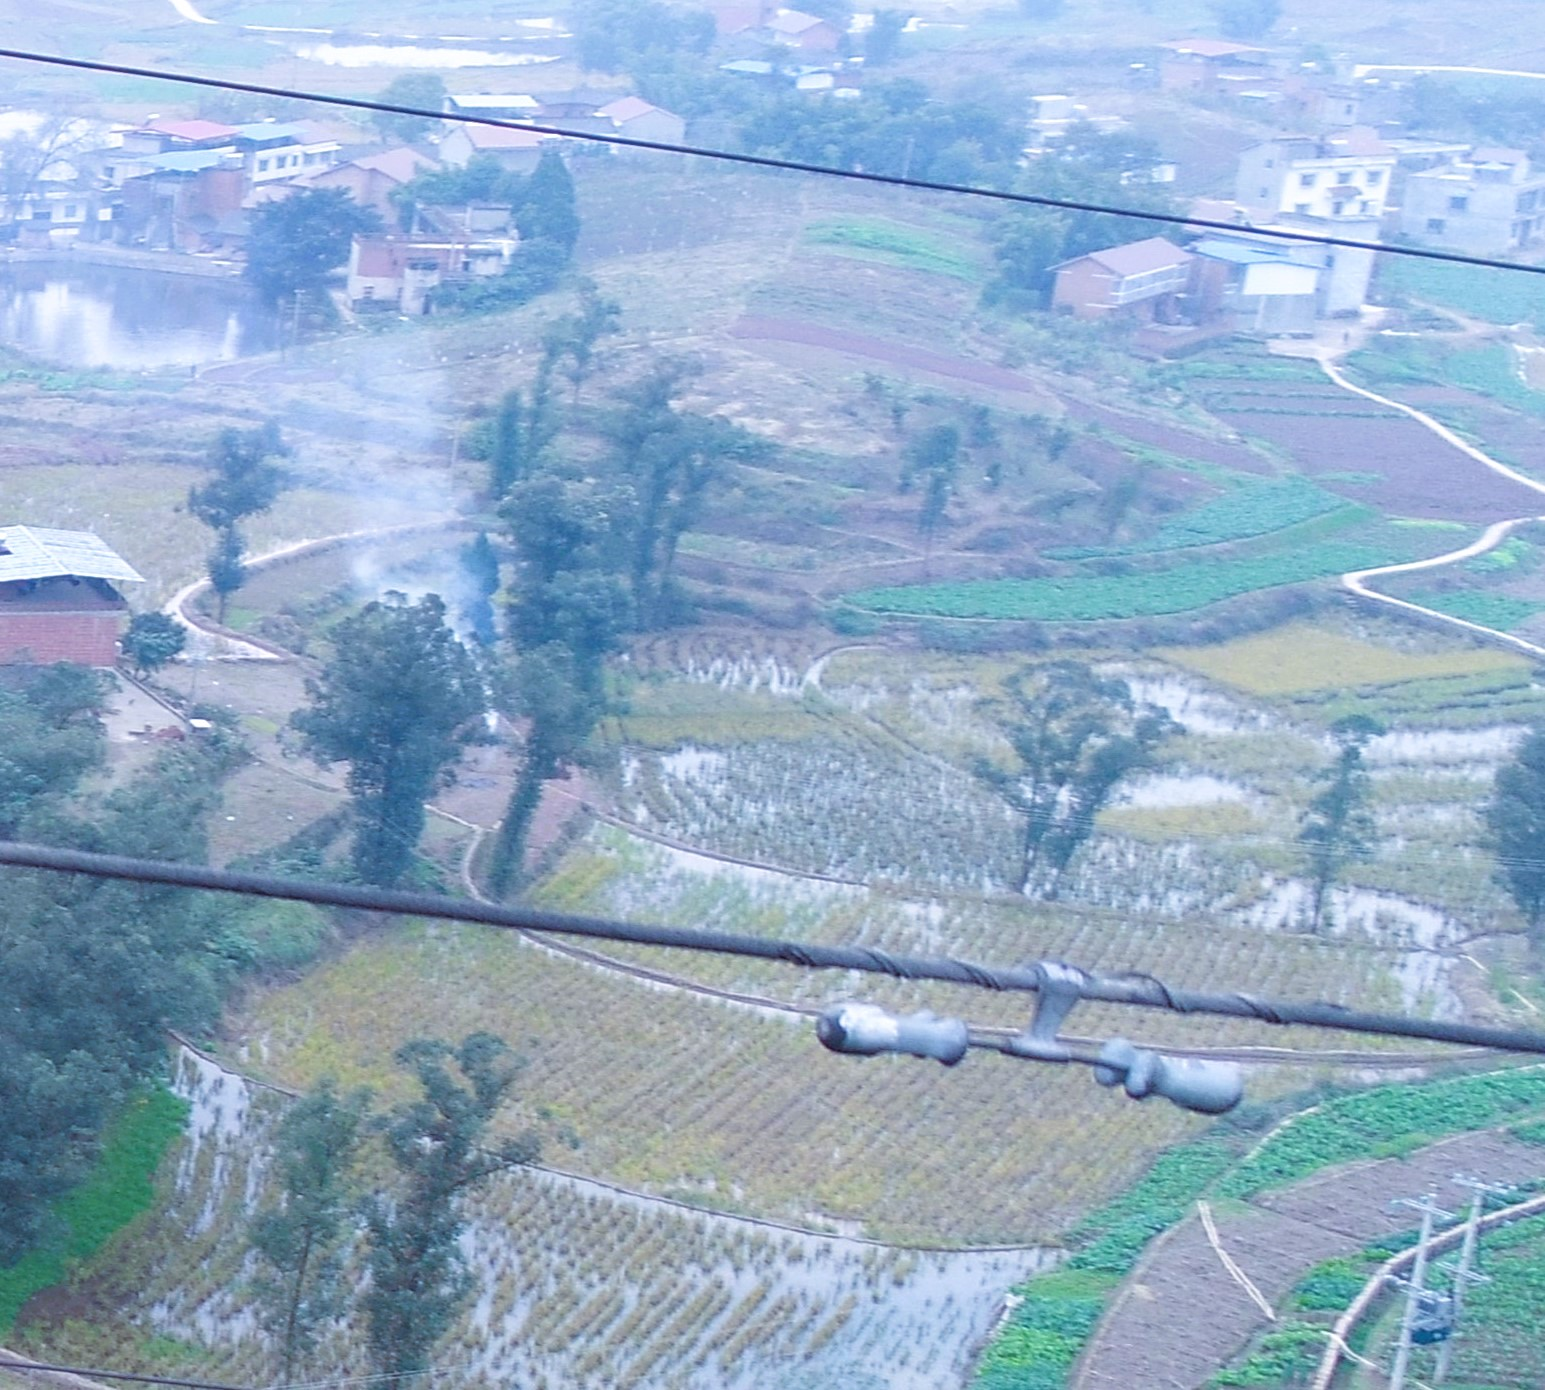Shockproof hammer: (789, 935, 1271, 1128)
